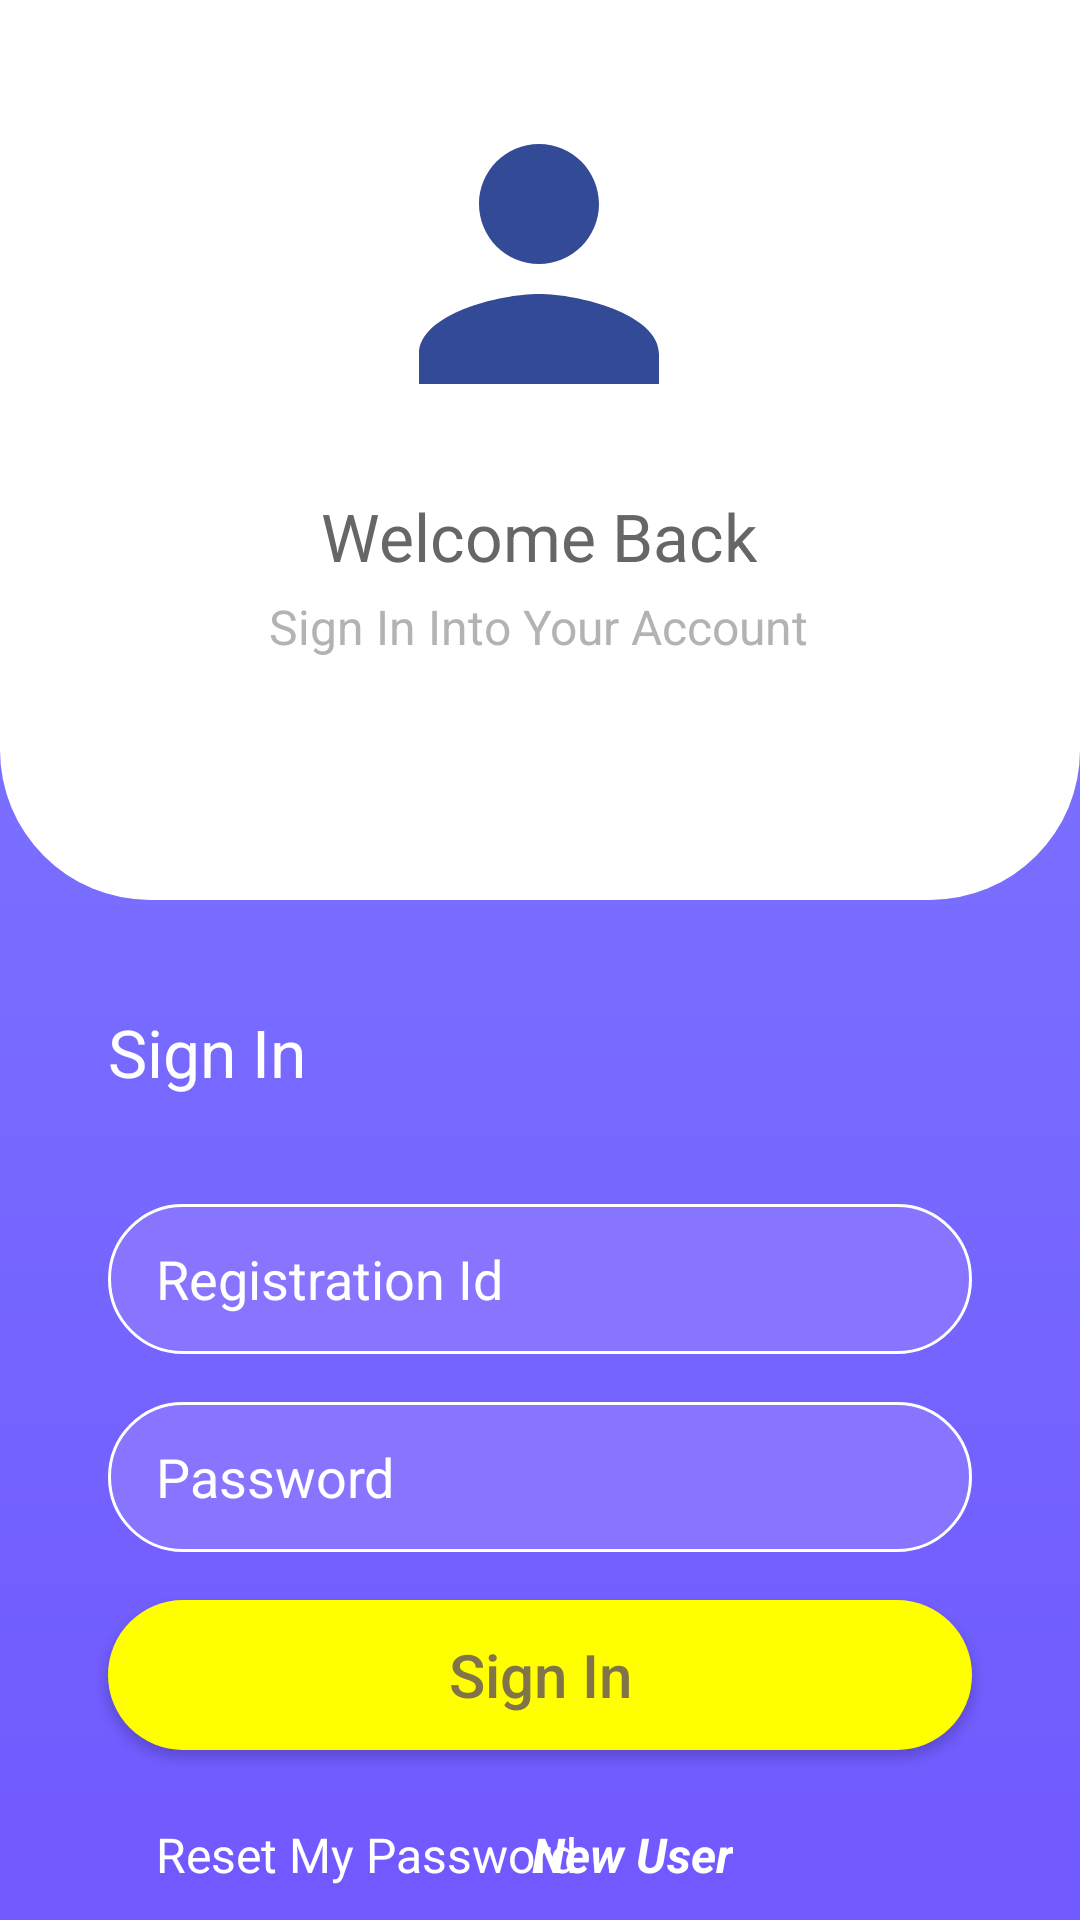

Icons on this 1080 × 1920 Android screen, each with its box as (x1, y1, x2, y2):
person: (419, 144, 659, 384)
